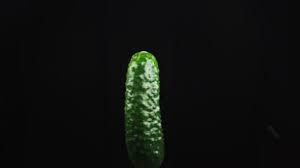cucumber: (124, 50, 165, 168)
